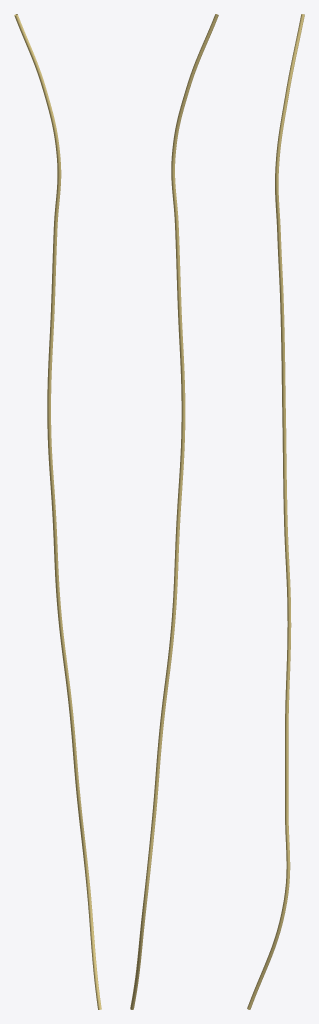
The picture shows the model from 3 angles, left to right: view 1: azimuth 30°, elevation 25°; view 2: azimuth 210°, elevation 25°; view 3: azimuth 270°, elevation 25°; orthographic projection. The views are drawn at different scales.
Parts seen in each view (by area): view 1: ZA_c5fff782165024d5; view 2: ZA_c5fff782165024d5; view 3: ZA_c5fff782165024d5.
Part boxes in pixels (box(x1,y1,x2,y2)): ZA_c5fff782165024d5: box(14, 14, 101, 1009); ZA_c5fff782165024d5: box(130, 14, 218, 1009); ZA_c5fff782165024d5: box(247, 14, 304, 1009).
Bounding box in the file's own units: 0.0203 × 0.2907 × 0.0157.
